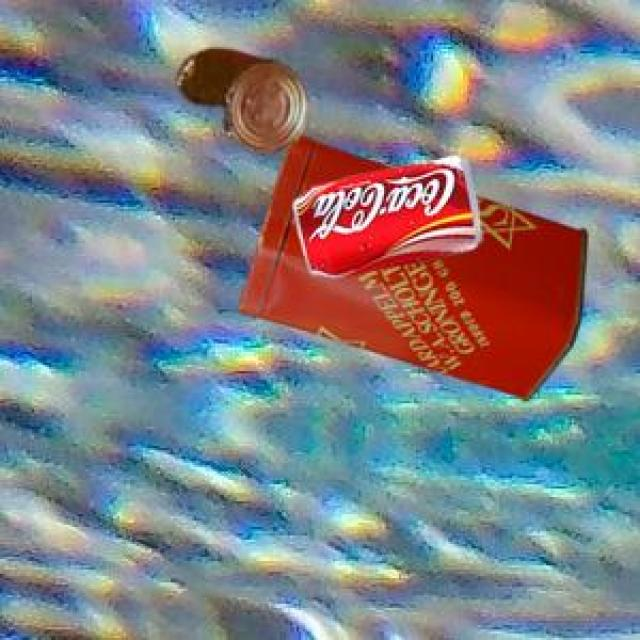logam: (236, 133, 583, 398), (291, 153, 479, 274), (174, 46, 306, 148)
